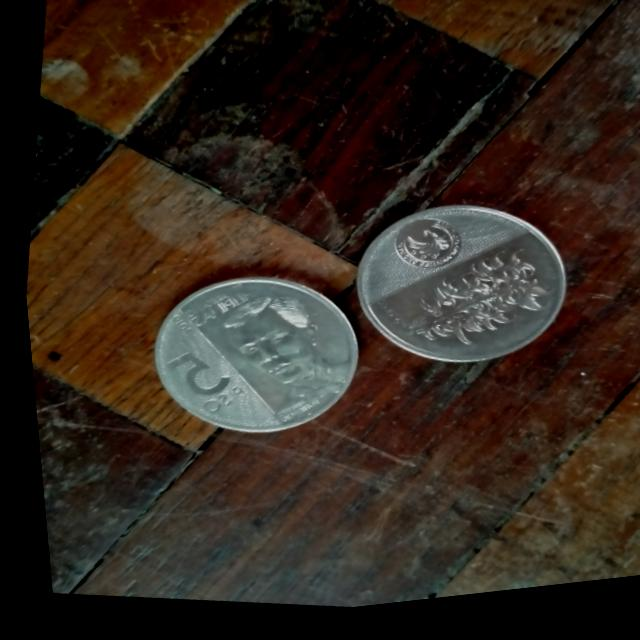5_New_Back: (378, 234, 560, 382)
5_New_Front: (142, 336, 258, 436)
